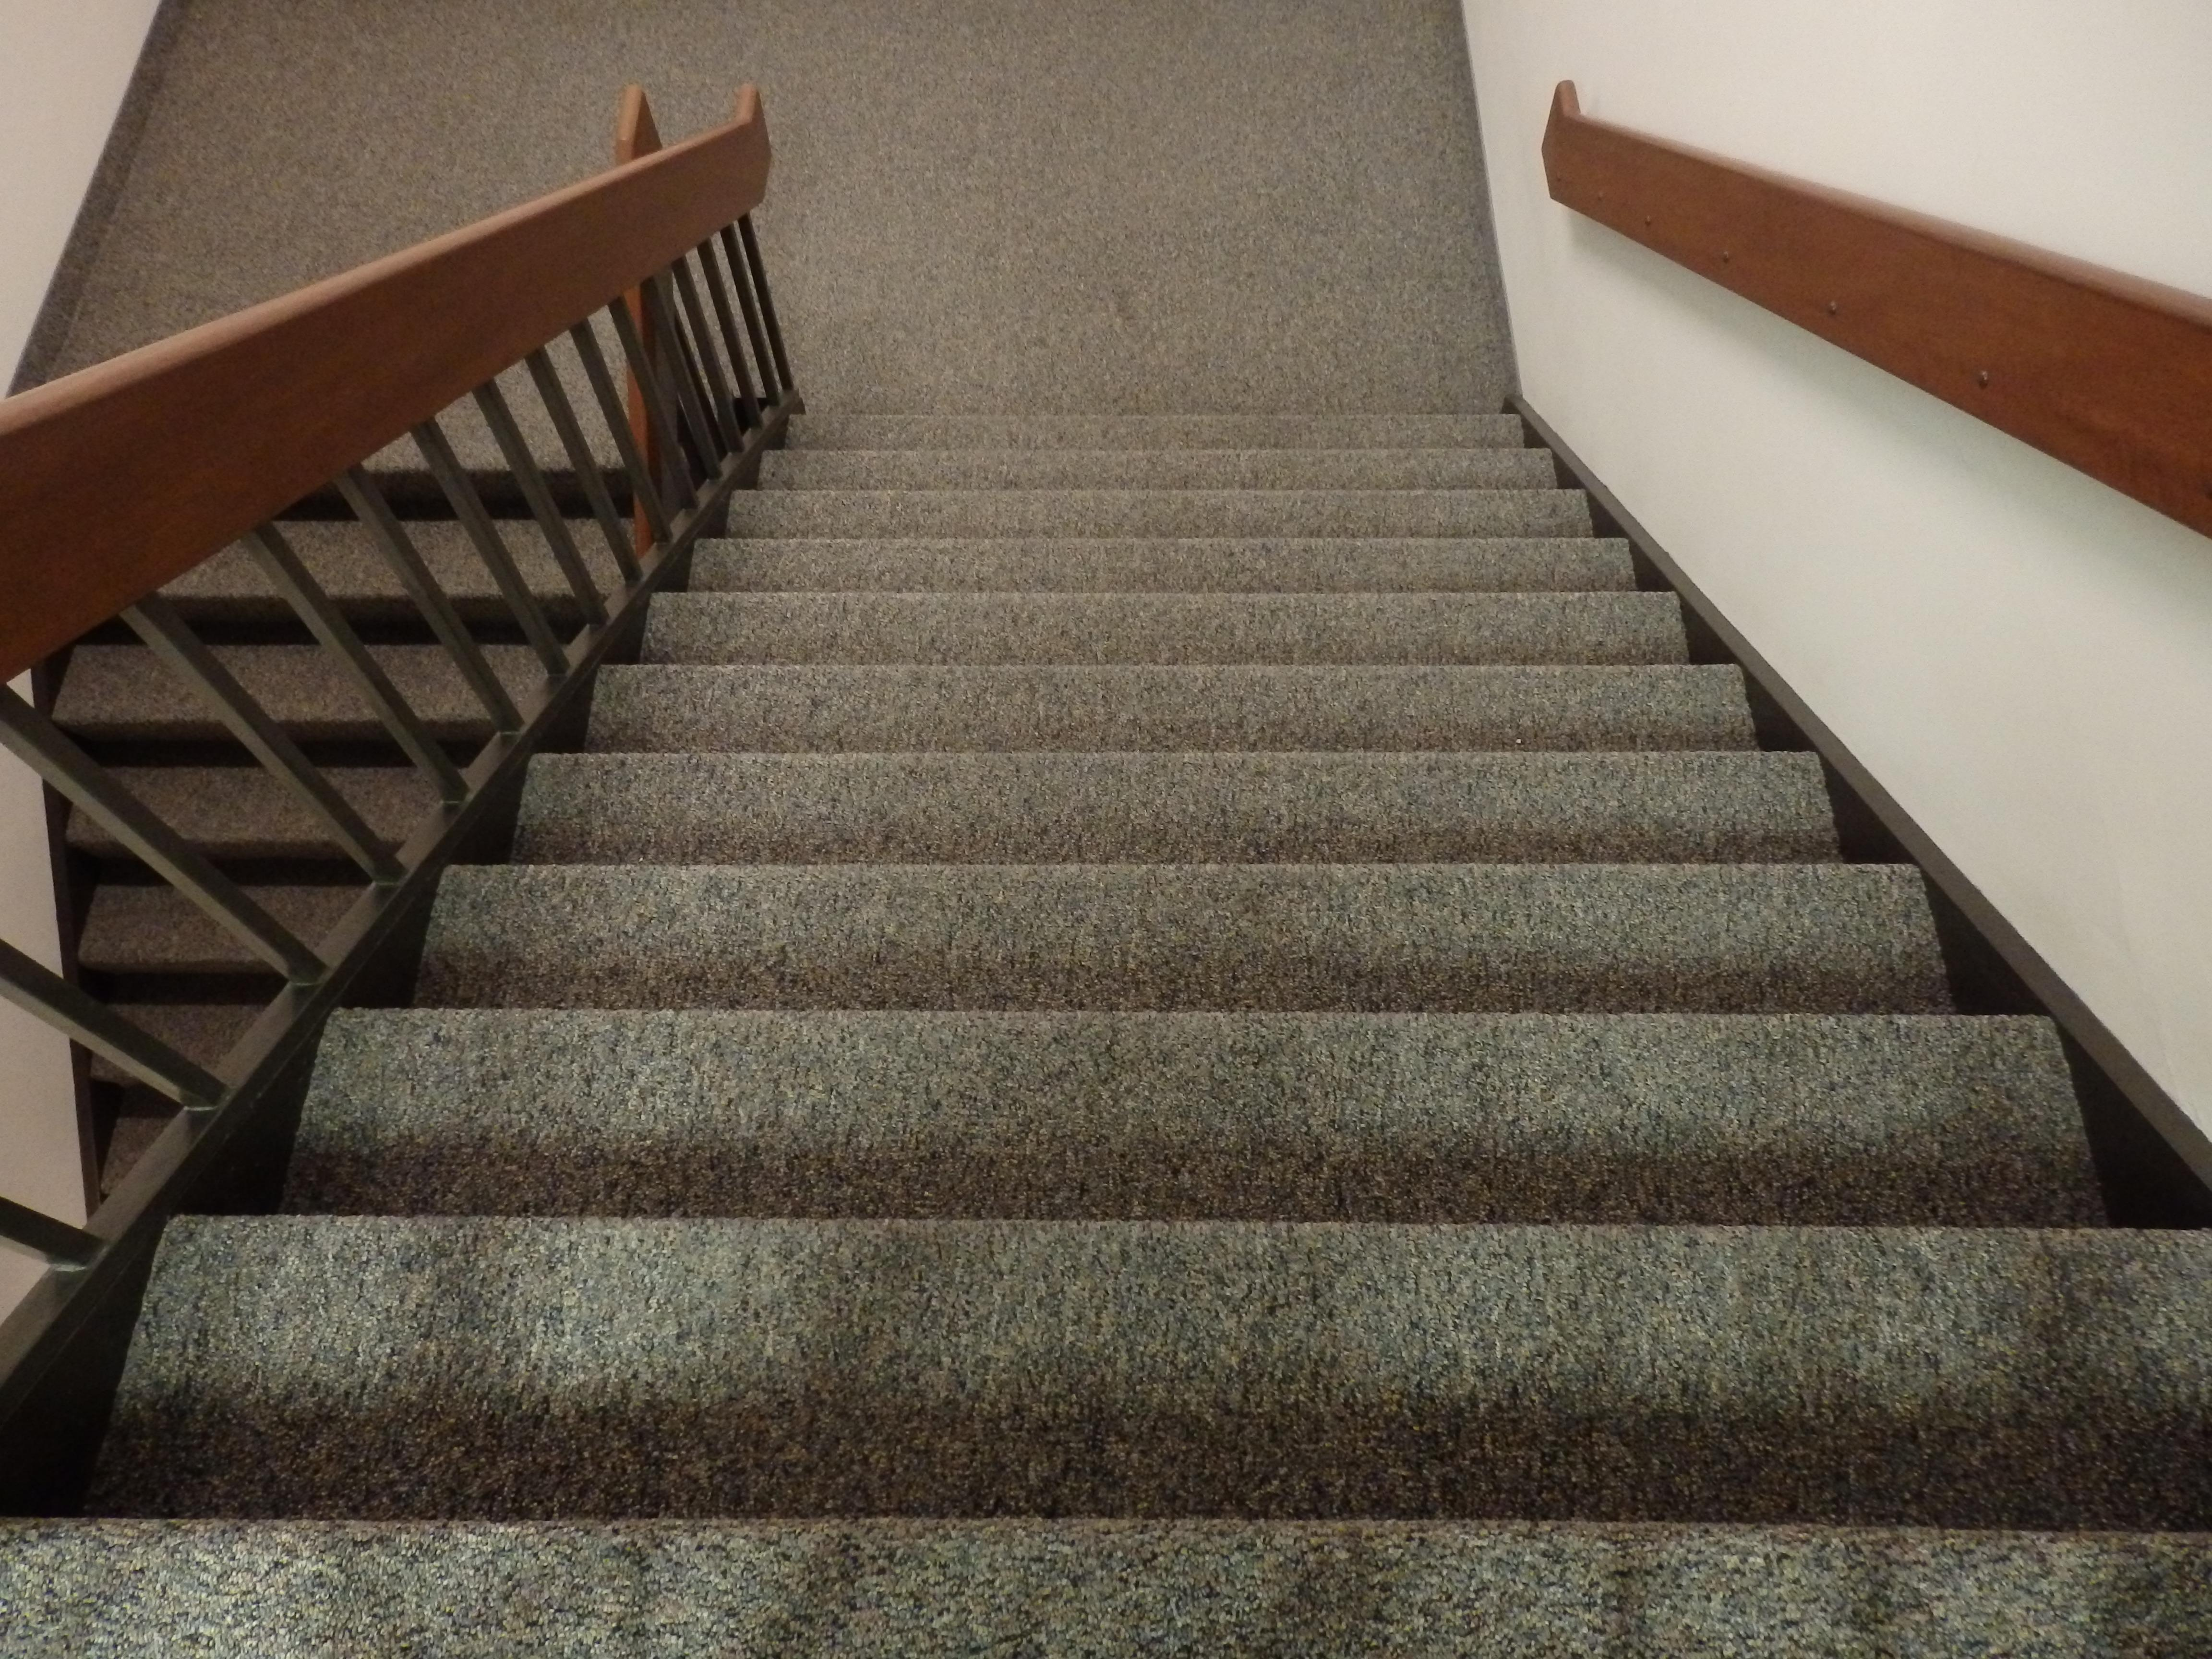stairs_down: (347, 387, 1918, 1605)
